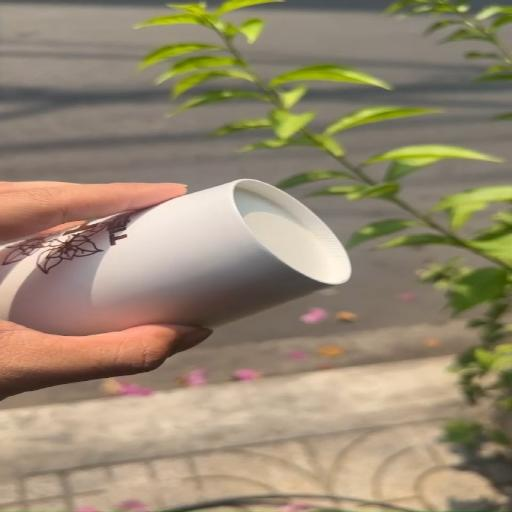Ly_giay: (0, 179, 351, 336)
